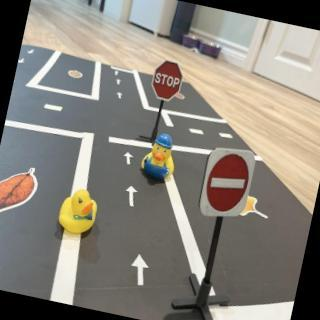duck_regular: (55, 186, 102, 239)
duck_specialty: (139, 129, 182, 183)
road_oneway: (127, 251, 153, 291), (122, 181, 142, 212), (121, 151, 136, 169), (114, 90, 126, 103), (27, 47, 36, 57), (18, 58, 28, 66), (115, 78, 122, 87), (114, 71, 120, 78)
sign_noentry: (198, 143, 258, 225)
sign_stop: (151, 60, 187, 102)
